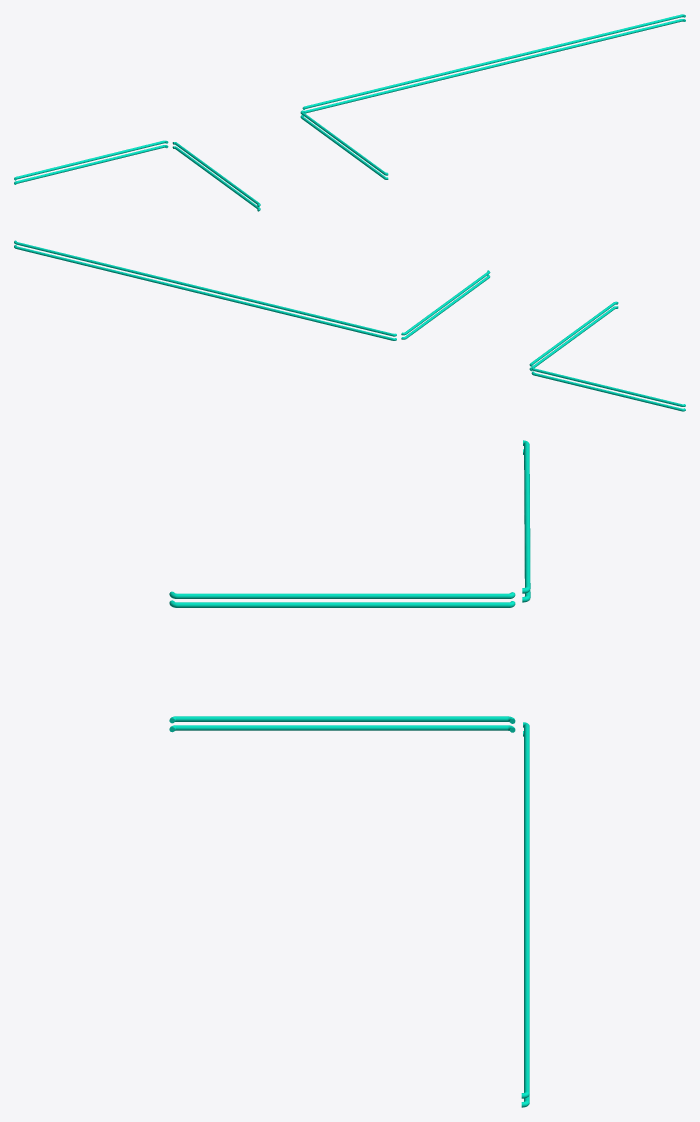
File: wallWires.fbx
3 views of the same model, one above another, from view 1: azimuth 30°, elevation 25°; view 2: azimuth 150°, elevation 25°; view 3: azimuth 270°, elevation 25° (orthographic). The views are drawn at different scales.
Visible parts, largest first — view 1: Wires.001, Wires.003, Wires.007, Wires.006, Wires, Wires.004, Wires.005, Wires.002; view 2: Wires.001, Wires.003, Wires.007, Wires.006, Wires, Wires.005, Wires.002, Wires.004; view 3: Wires.001, Wires, Wires.002, Wires.004, Wires.005.
Boxes of the visible parts, x1=… form: Wires.001: x1=302, y1=14, x2=685, y2=109; Wires.003: x1=304, y1=19, x2=685, y2=113; Wires.007: x1=14, y1=140, x2=168, y2=180; Wires.006: x1=14, y1=145, x2=168, y2=184; Wires: x1=300, y1=110, x2=388, y2=175; Wires.004: x1=172, y1=146, x2=260, y2=211; Wires.005: x1=172, y1=142, x2=260, y2=206; Wires.002: x1=300, y1=115, x2=388, y2=179; Wires.001: x1=14, y1=240, x2=396, y2=336; Wires.003: x1=14, y1=245, x2=396, y2=340; Wires.007: x1=531, y1=367, x2=685, y2=406; Wires.006: x1=531, y1=371, x2=685, y2=411; Wires: x1=401, y1=270, x2=490, y2=335; Wires.005: x1=529, y1=301, x2=618, y2=366; Wires.002: x1=401, y1=274, x2=490, y2=339; Wires.004: x1=529, y1=306, x2=618, y2=371; Wires.001: x1=521, y1=722, x2=529, y2=1098; Wires: x1=169, y1=716, x2=515, y2=723; Wires.002: x1=169, y1=725, x2=515, y2=732; Wires.004: x1=169, y1=600, x2=515, y2=607; Wires.005: x1=169, y1=591, x2=515, y2=598.
Bounding box in the file's own units: 1197 × 11.85 × 279.
